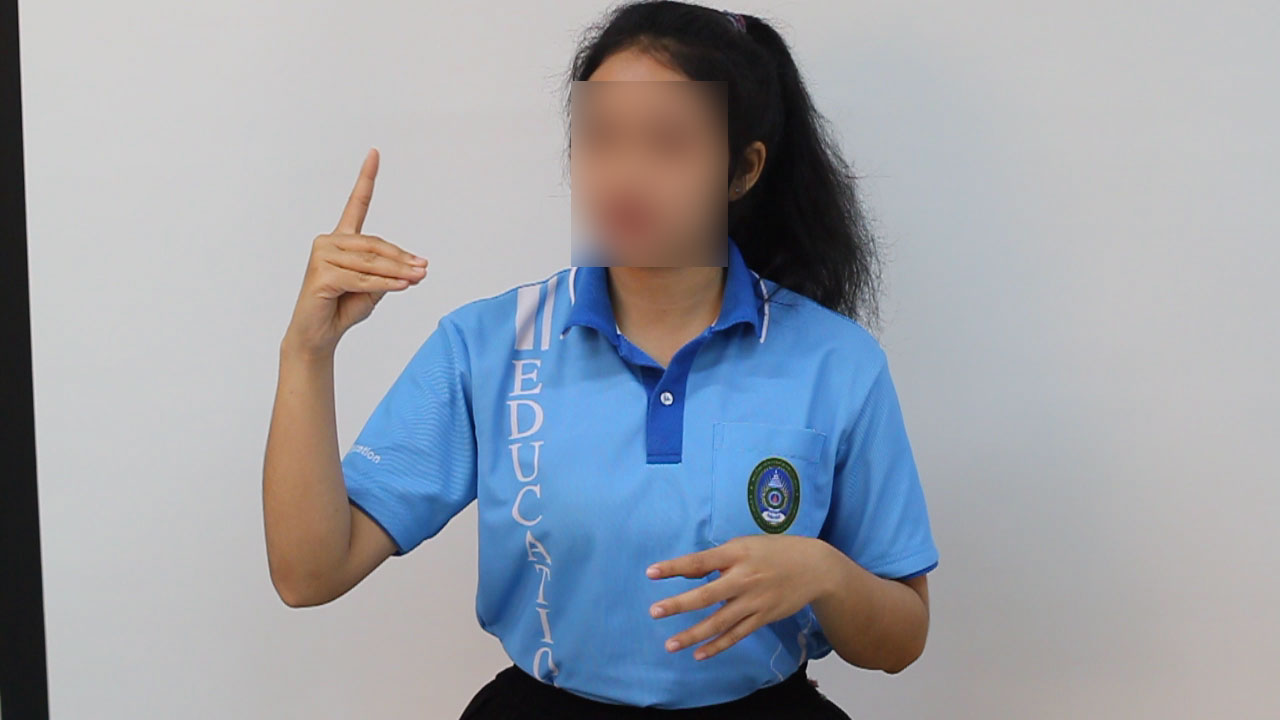dor: (266, 132, 440, 366)
